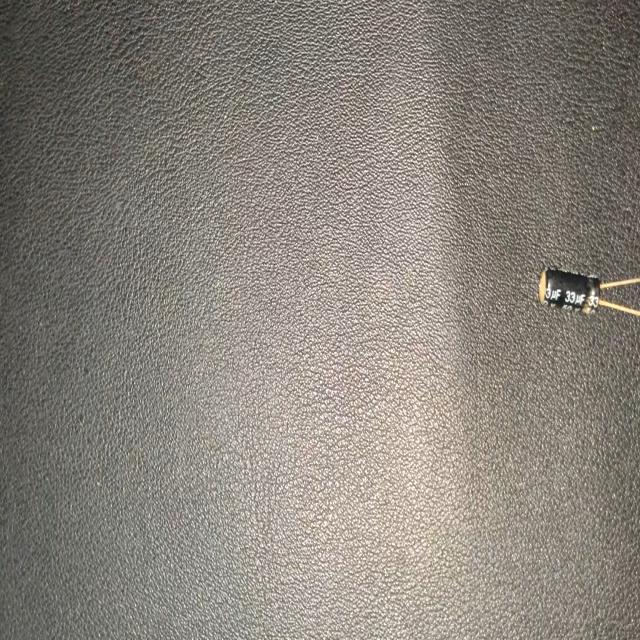capacitor: (536, 260, 640, 324)
